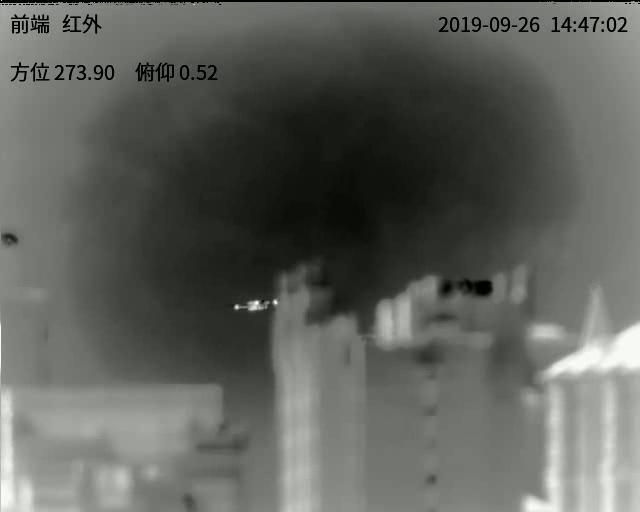DRONE: (232, 297, 280, 312)
